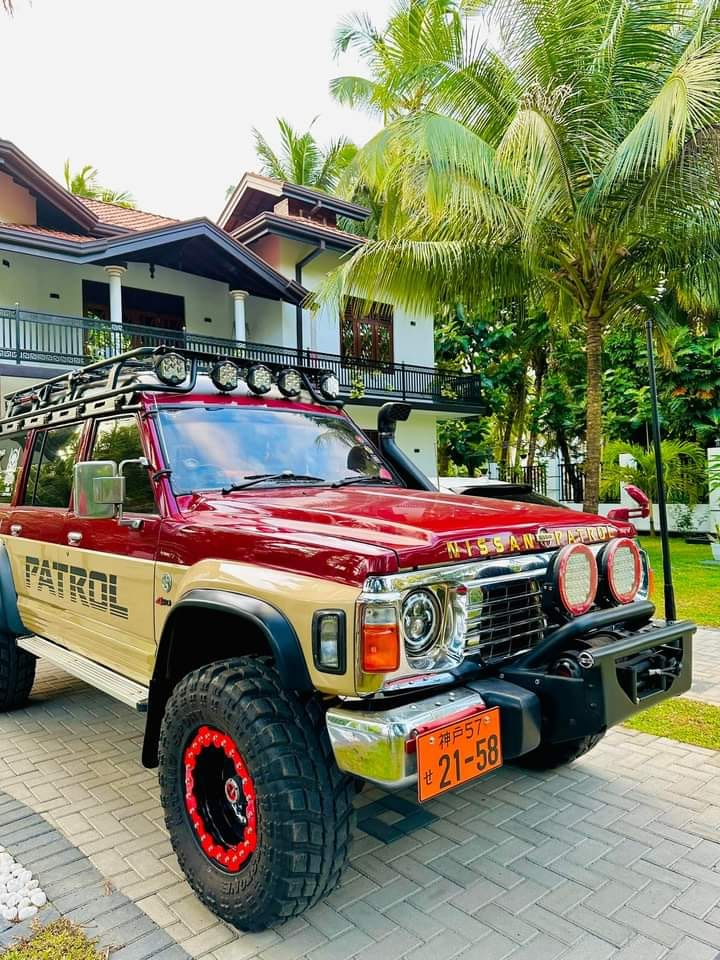number_plate: (404, 707, 501, 801)
